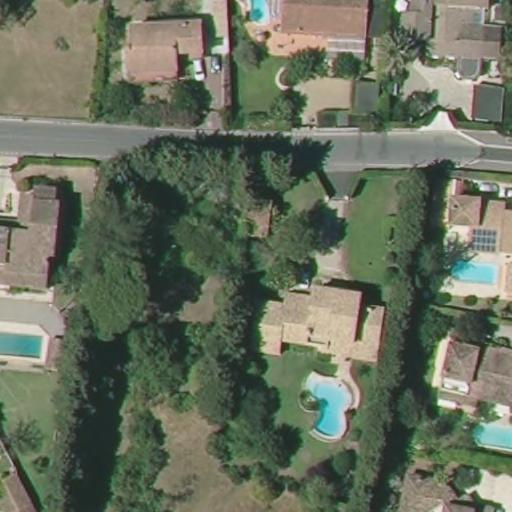pool: (299, 371, 359, 441), (440, 250, 506, 290), (468, 409, 511, 460), (0, 323, 48, 363), (234, 0, 278, 29)
